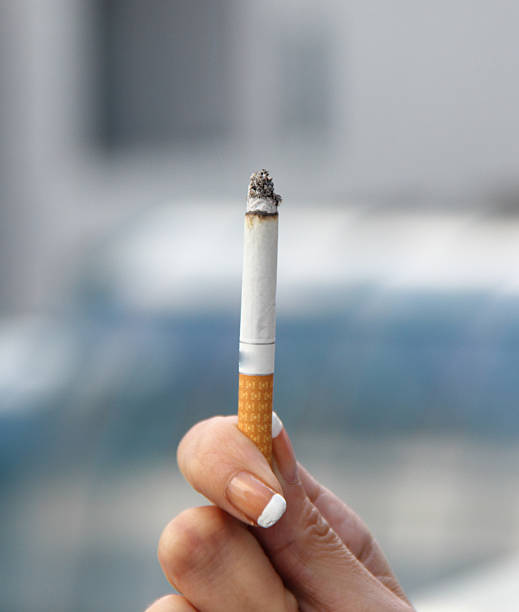cigarette: (239, 168, 279, 462)
